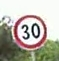limite 30: (11, 13, 47, 51)
